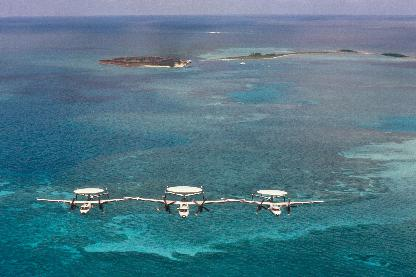C5: (123, 185, 245, 218), (37, 186, 139, 214), (221, 189, 323, 216)
